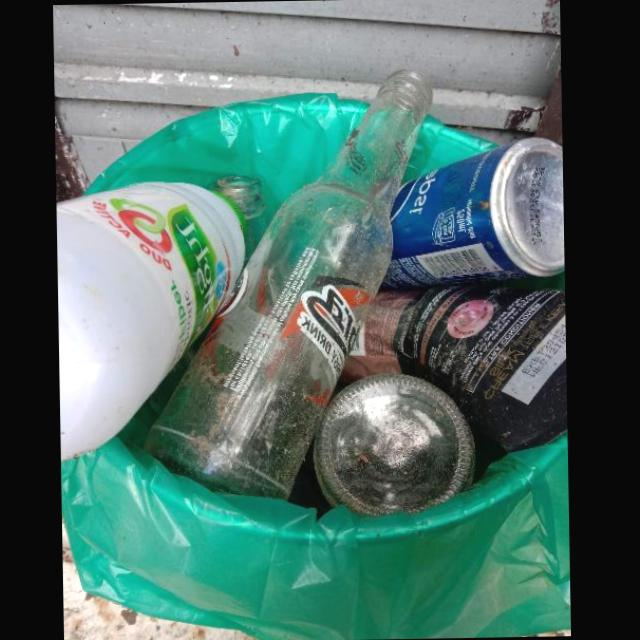chai_nhua: (57, 181, 249, 461), (344, 271, 567, 454)
chai_thuy_tinh: (141, 70, 432, 499), (312, 372, 476, 520), (216, 175, 266, 264)
nhom: (379, 136, 564, 294)
